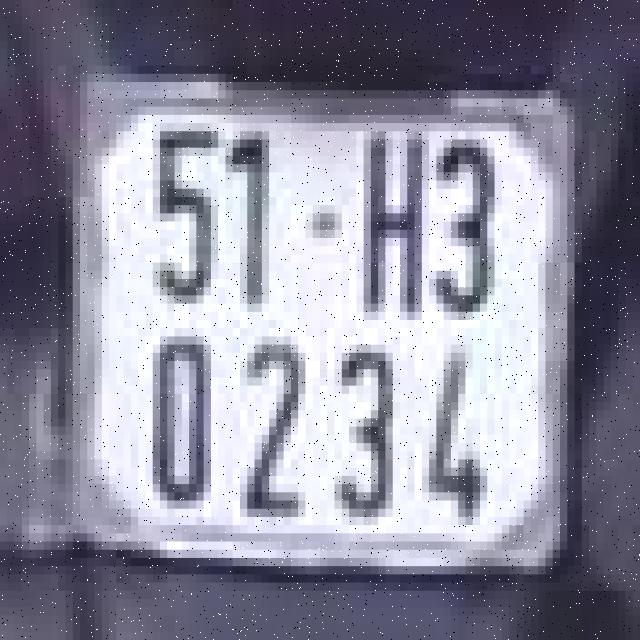0: (138, 332, 218, 513)
1: (232, 119, 284, 316)
2: (236, 332, 309, 521)
3: (331, 332, 404, 530), (436, 127, 502, 324)
4: (418, 341, 506, 521)
5: (138, 119, 226, 316)
H: (356, 123, 429, 328)
